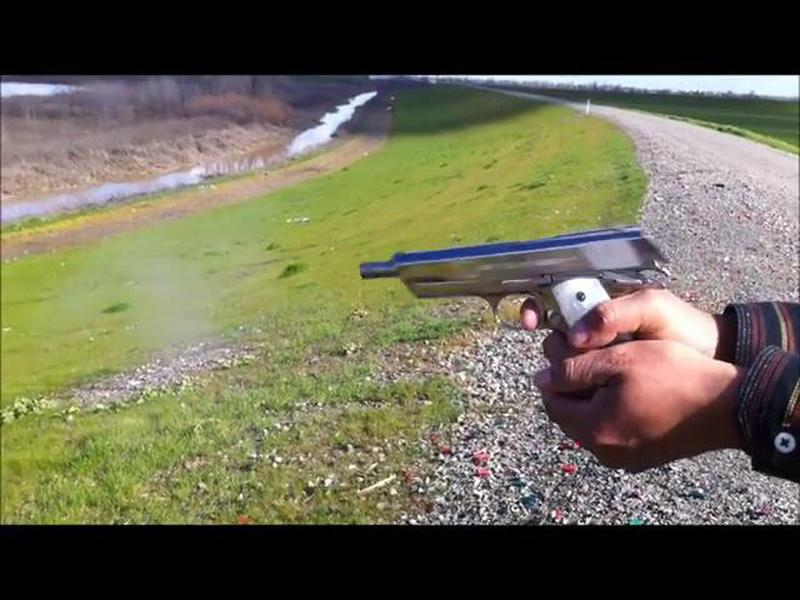Pistola: (328, 194, 693, 410)
